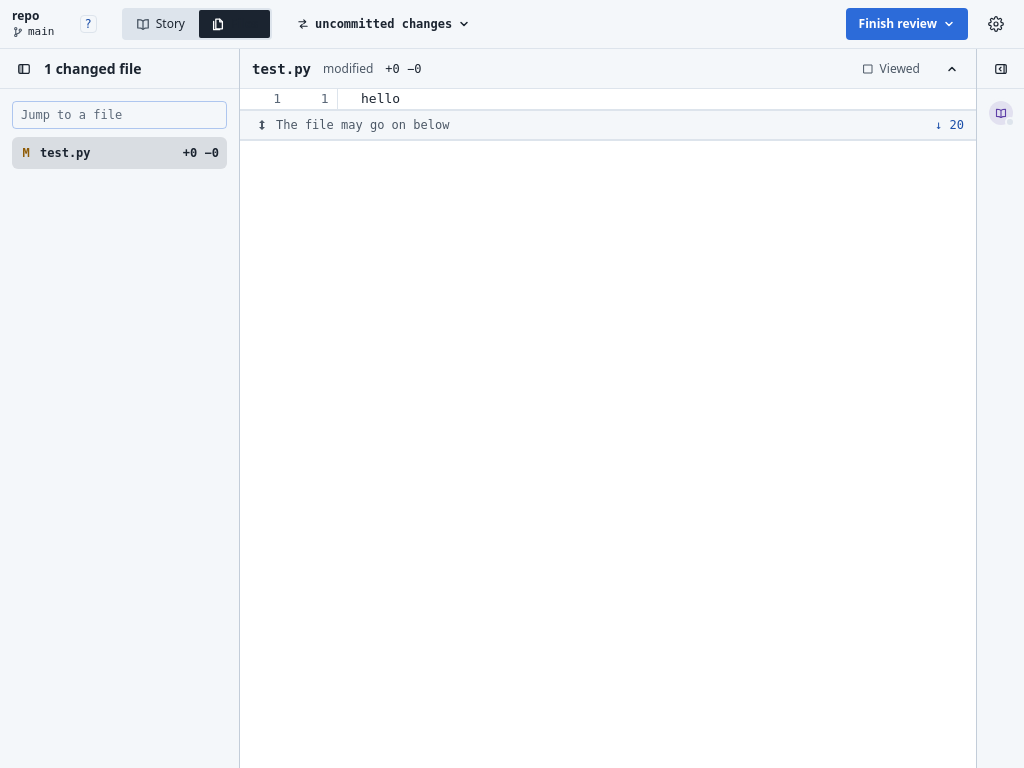
it: the pane the review is sent from › gives way to a press anywhere else, and the press does what it was for
Click the button with test id "quick-submit" at point(907, 24), box [846,8,968,40]
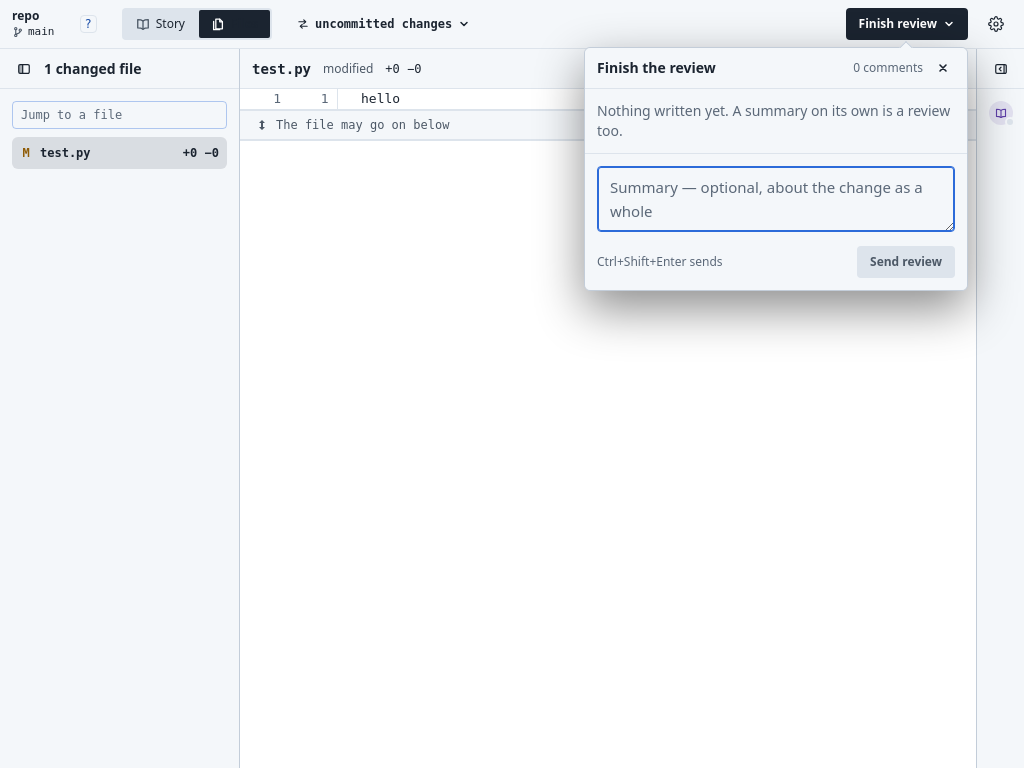
Click the button with test id "line-gutter" at point(313, 99), box [289,89,336,109]
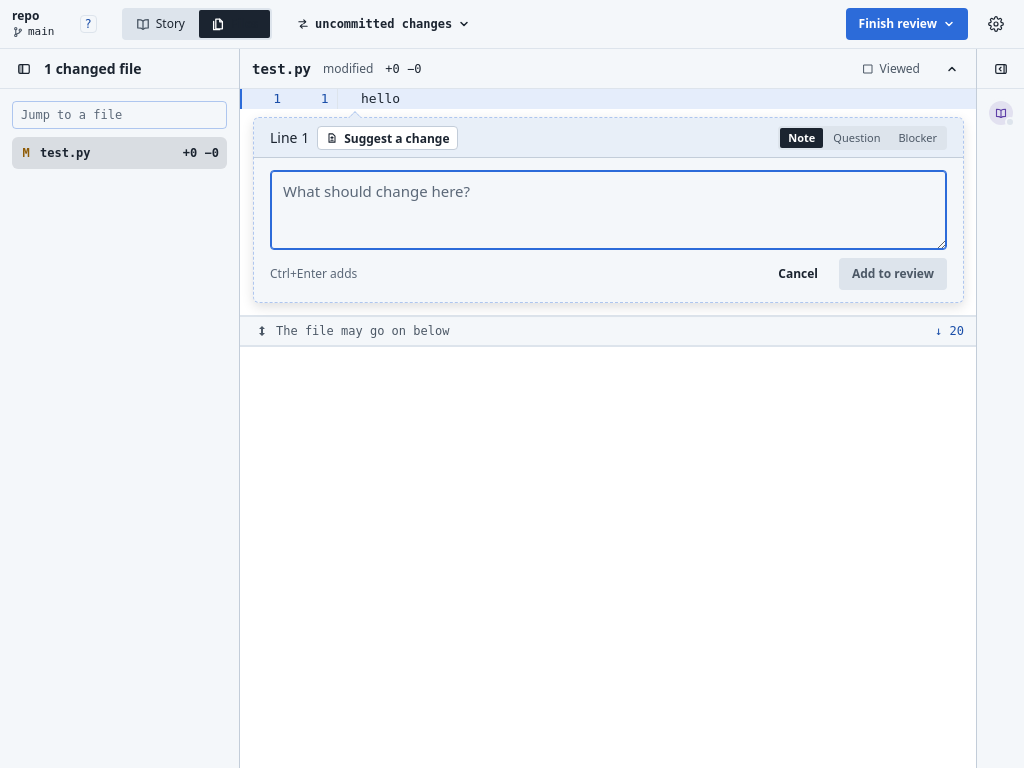
Now the dialog with test id "finish-review" is gone
Now the text box with test id "comment-input" is shown, box [270,170,947,250]
